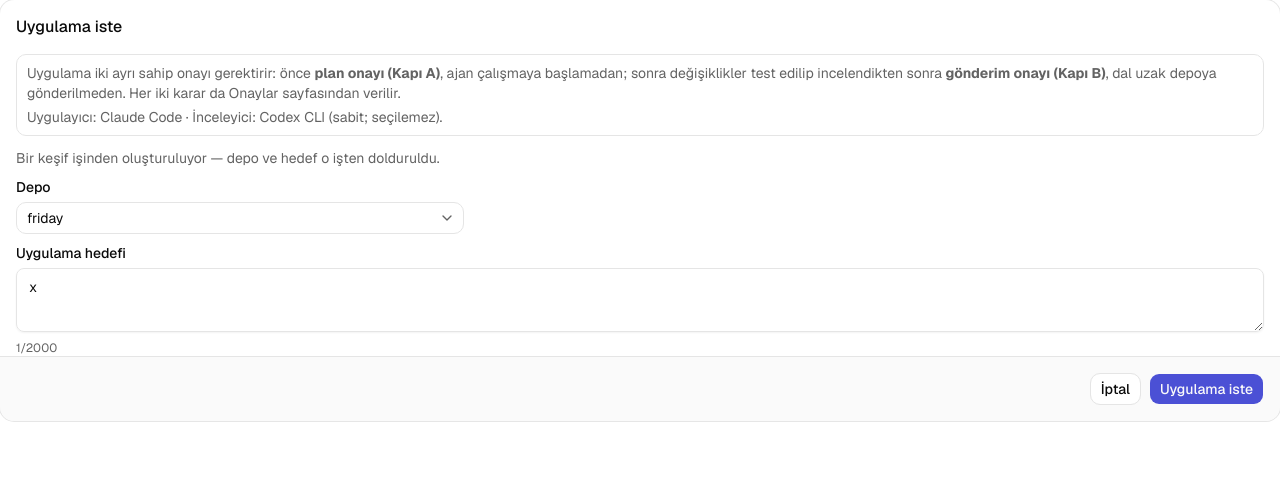
Test case: ImplementationJobForm › shows the Turkish message for the backend's error code when creation is refused
Expected: the dropdown named "Depo" is shown, [16, 202, 464, 234]
Click the button "Uygulama iste" at (1206, 389), box [1149, 373, 1264, 405]
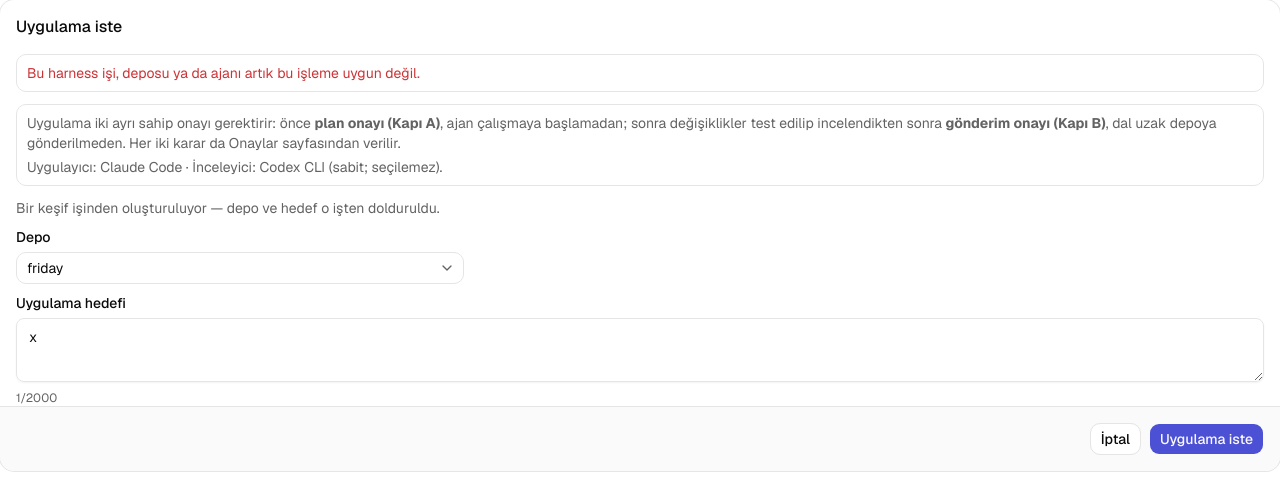
Expected: the text "Bu harness işi, deposu ya da ajanı artık bu işleme uygun değil." is shown, [27, 64, 420, 82]
